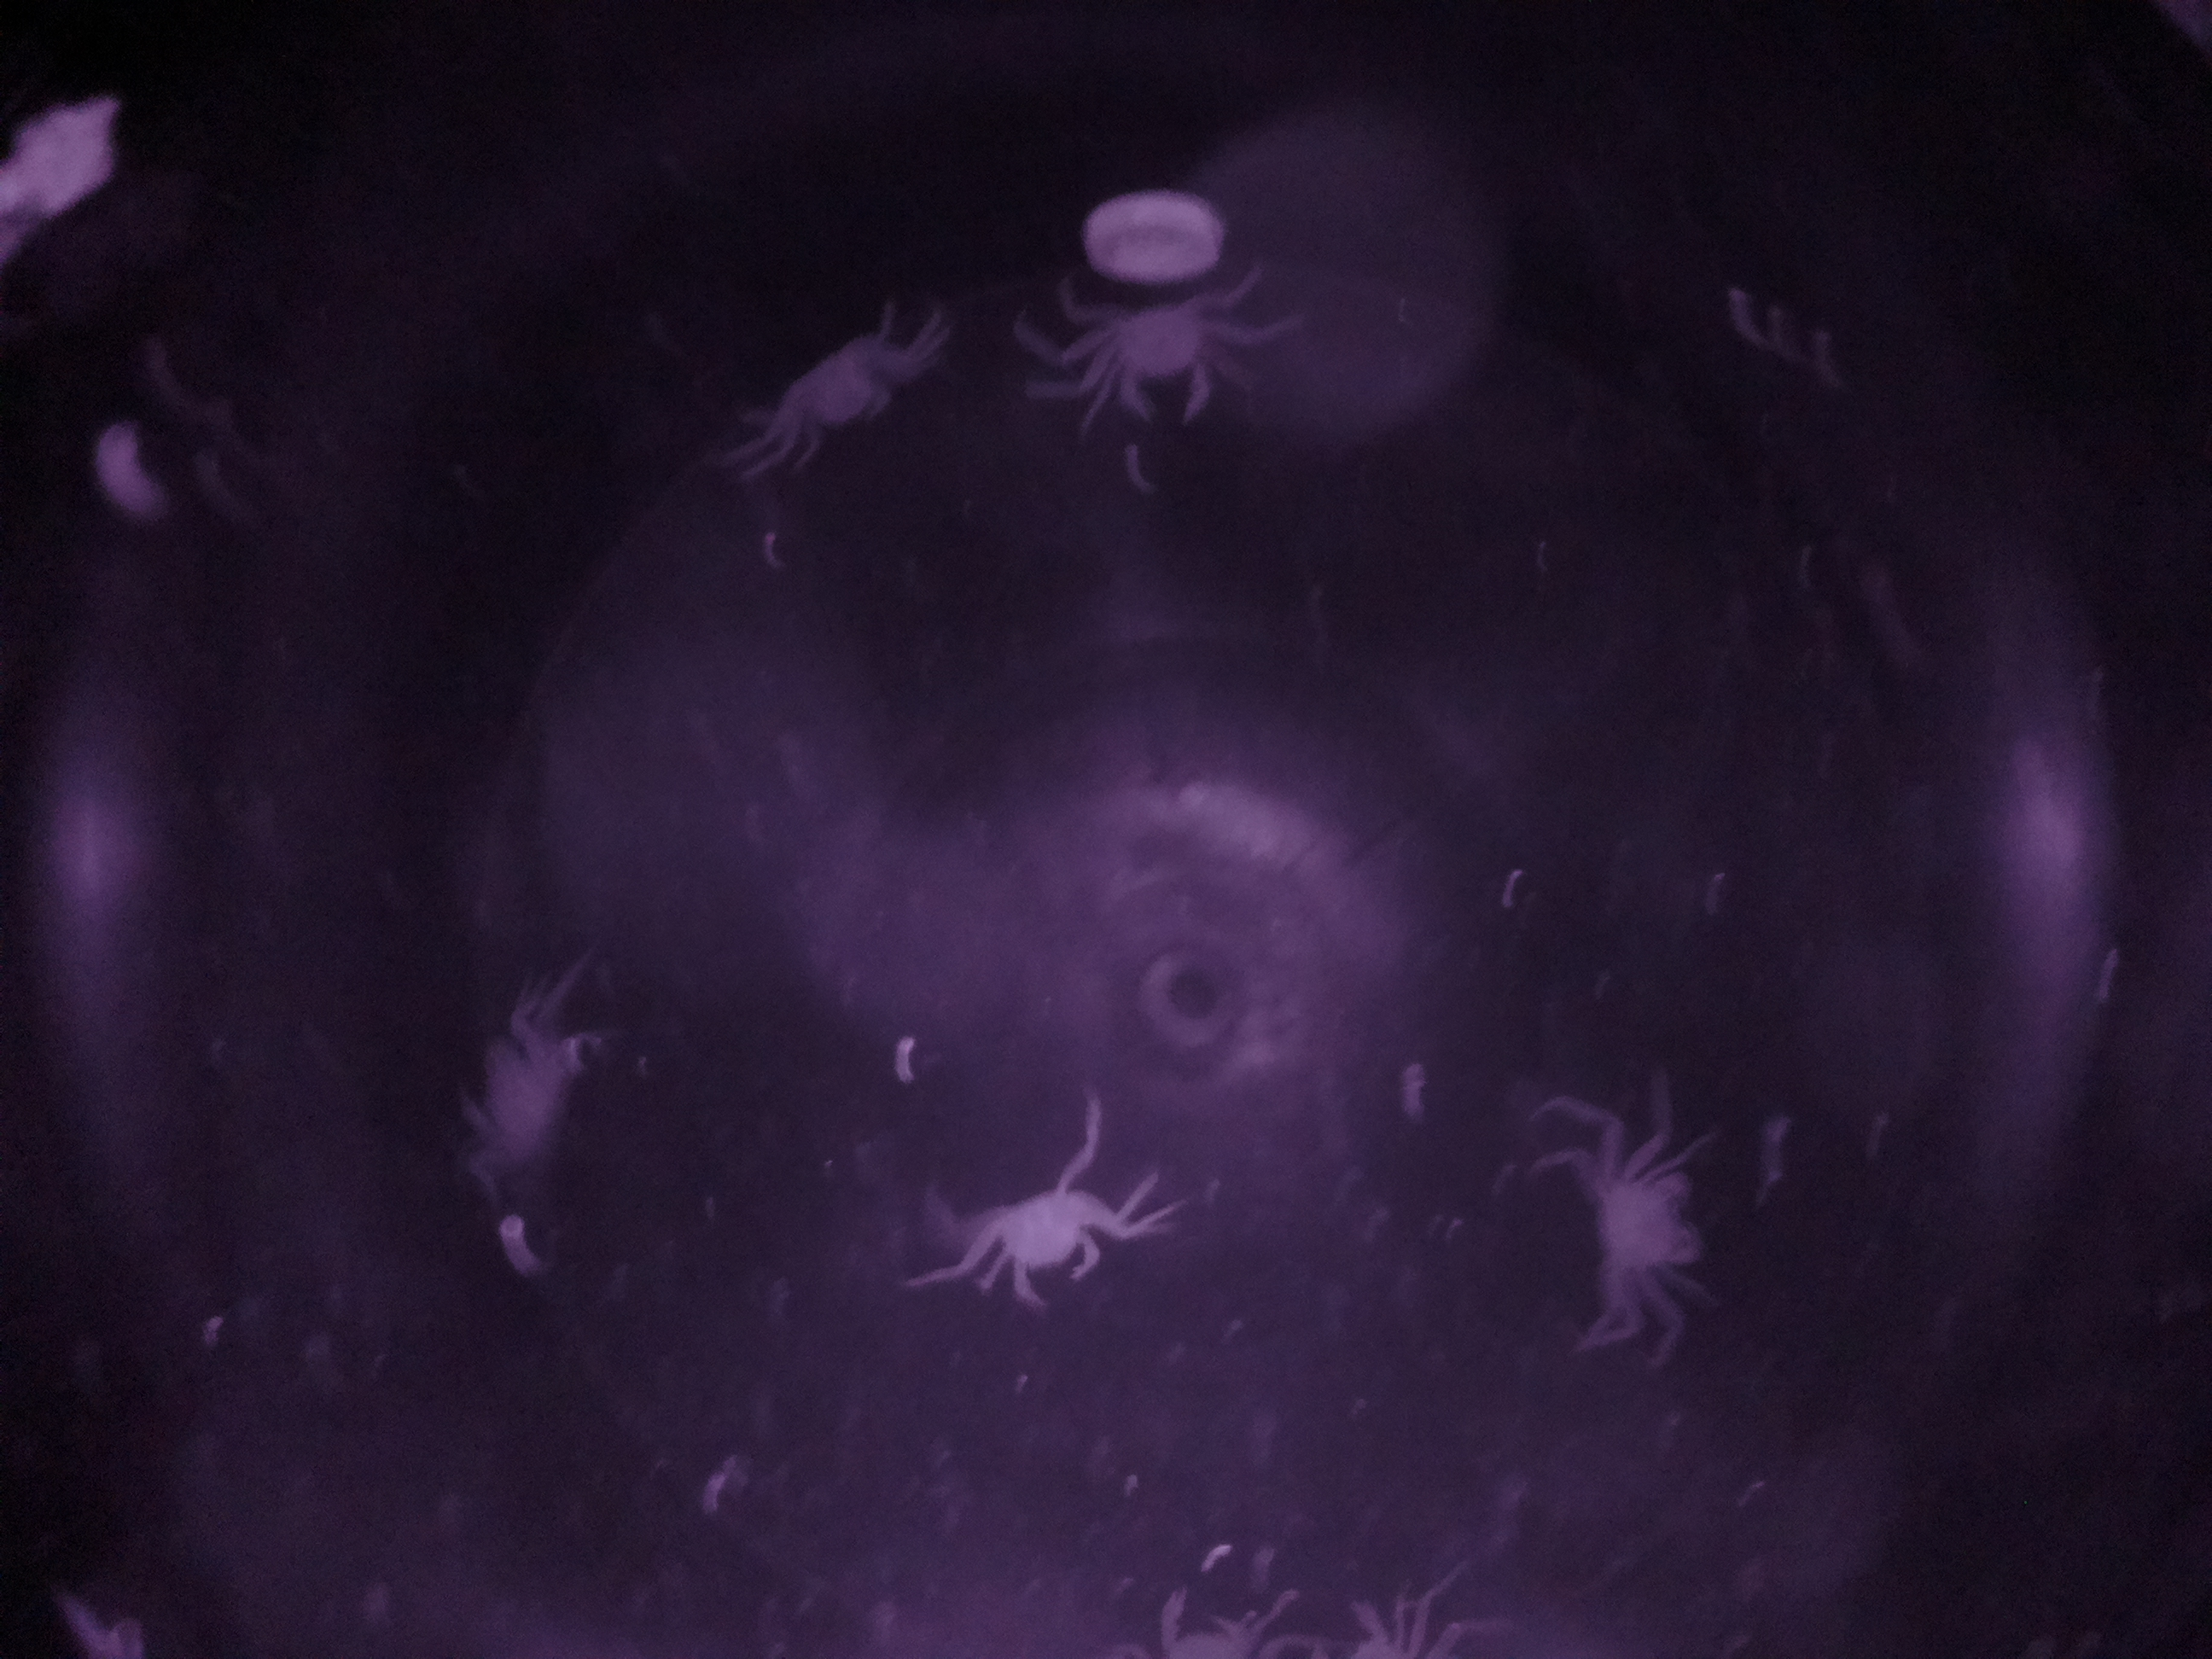Crab: (1028, 275, 1258, 434), (944, 1145, 1155, 1317), (1571, 1119, 1740, 1328)
